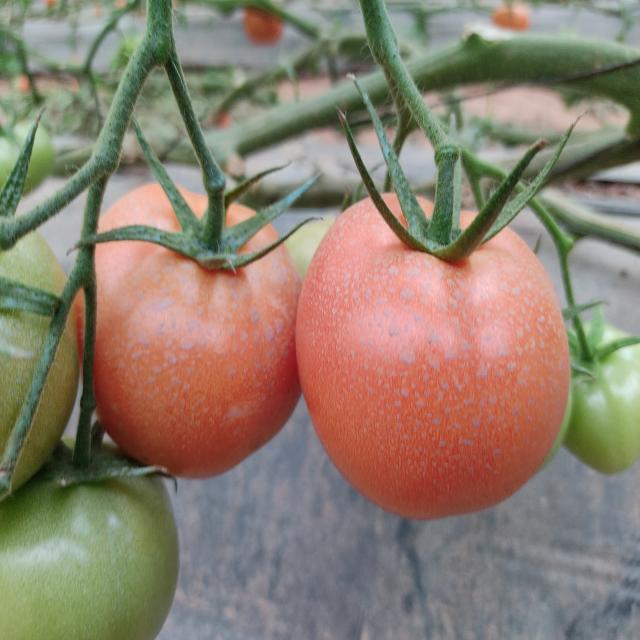Ripe Tomato: (297, 194, 573, 520), (75, 191, 312, 480)
Unripe Tomato: (0, 454, 182, 639), (564, 321, 640, 479)
